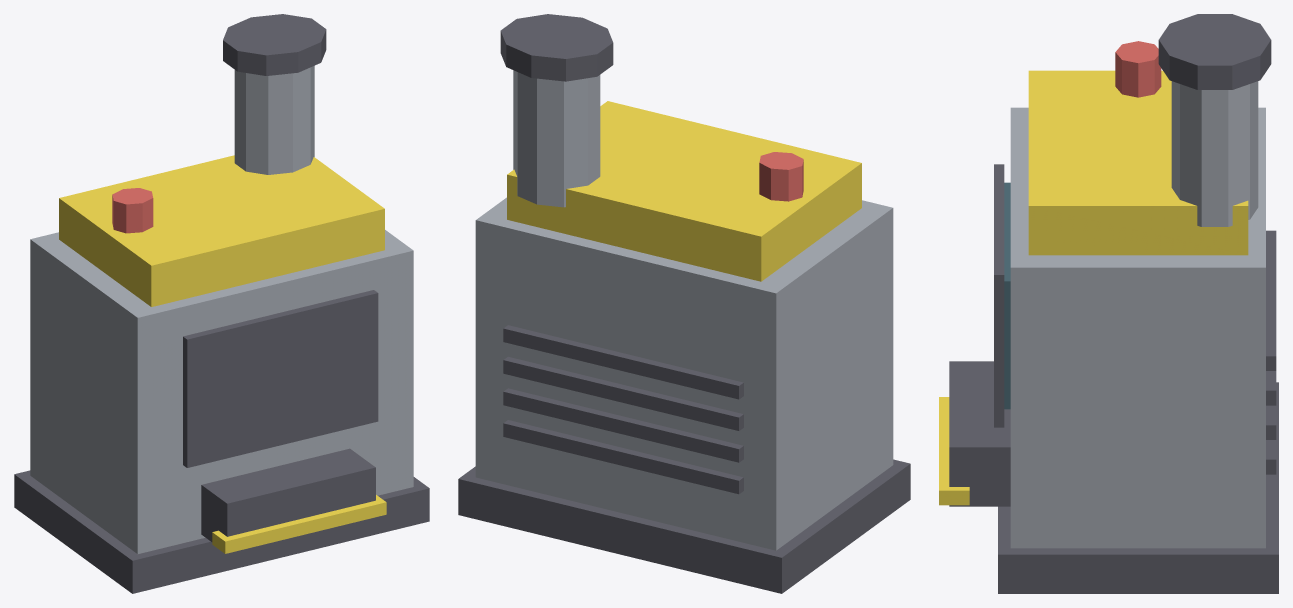
File: machine.glb
The picture shows the model from 3 angles, left to right: view 1: azimuth 30°, elevation 25°; view 2: azimuth 150°, elevation 25°; view 3: azimuth 270°, elevation 25°; orthographic projection. The views are drawn at different scales.
Visible parts, largest first — view 1: machine; view 2: machine; view 3: machine.
Part boxes in pixels (x1,y1,x2,y2): machine: (14,14,429,593); machine: (458,14,910,593); machine: (939,14,1278,593).
Bounding box in the file's own units: 1.5 × 2.1 × 1.25.
